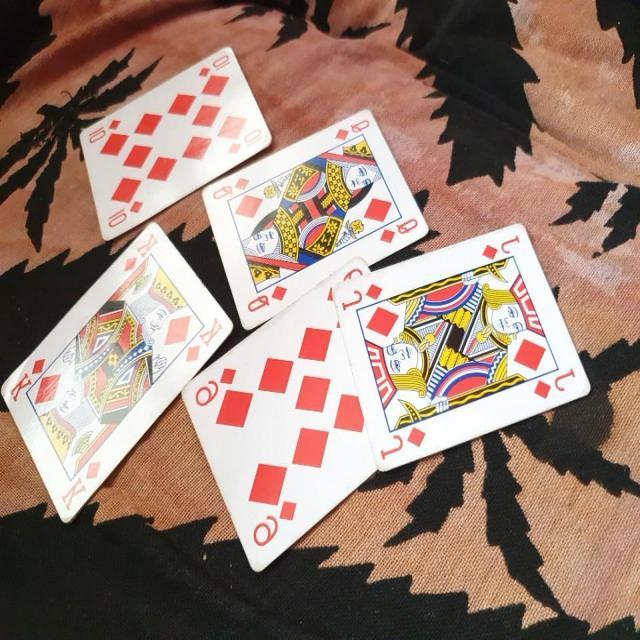10 of diamonds: (77, 45, 273, 244)
9 of diamonds: (180, 256, 372, 574)
jack of diamonds: (330, 225, 592, 472)
king of diamonds: (1, 218, 234, 526)
queen of diamonds: (200, 106, 430, 332)
